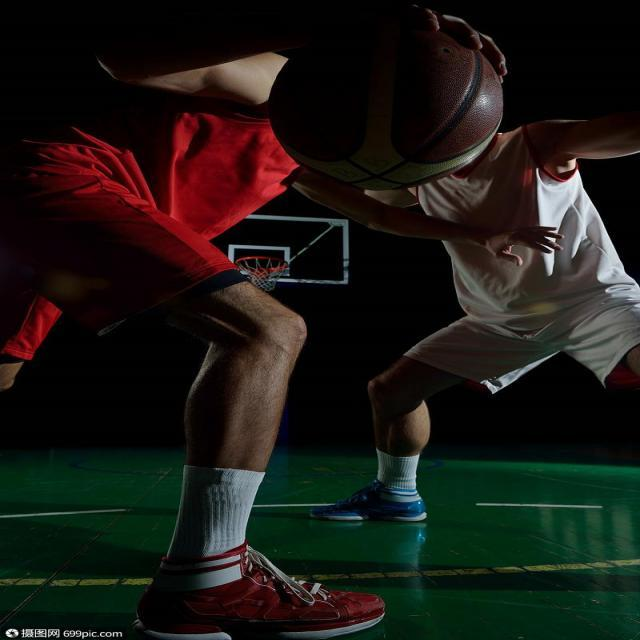rim: (276, 22, 506, 185)
